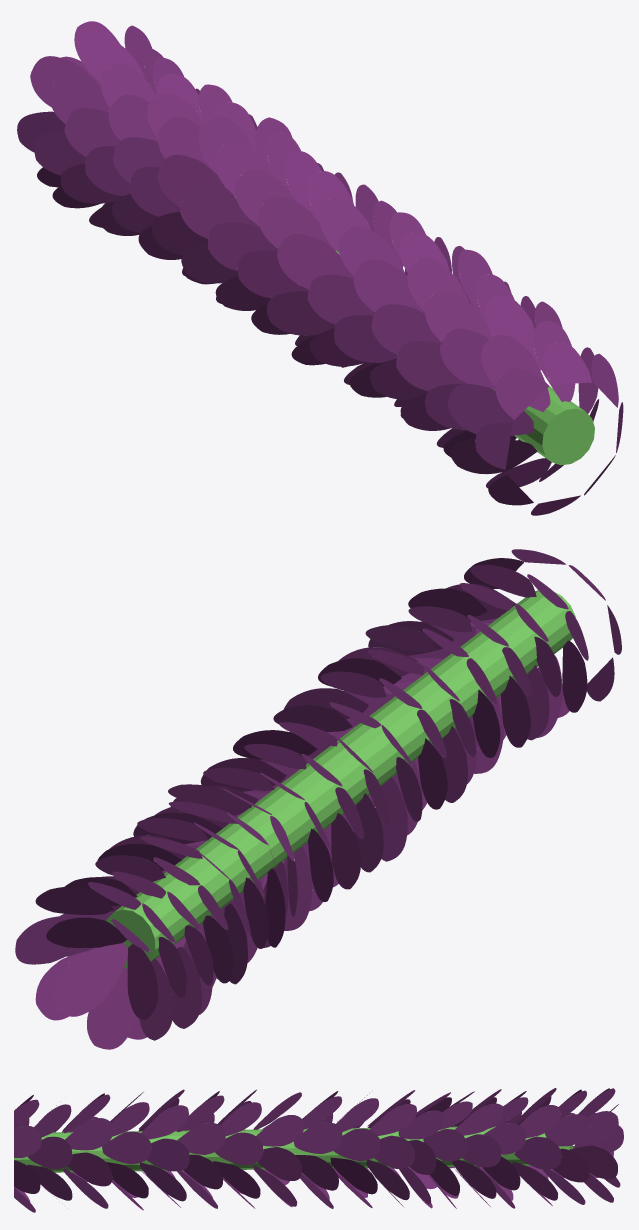
File: Lavanda_Cozinha_Inicial.fbx
The picture shows the model from 3 angles, top to bottom: view 1: azimuth 30°, elevation 25°; view 2: azimuth 150°, elevation 25°; view 3: azimuth 270°, elevation 25°; orthographic projection. The views are drawn at different scales.
Visible parts, largest first — view 1: Cube.001; view 2: Cube.001; view 3: Cube.001.
Part boxes in pixels (left/top/right/bottom): Cube.001: left=17, top=21, right=623, bottom=515; Cube.001: left=15, top=549, right=621, bottom=1049; Cube.001: left=14, top=1088, right=623, bottom=1212.
Size of the model in its own units: 18.79 by 17.38 by 80.47.
Materials: 2 (1 with a texture image).
